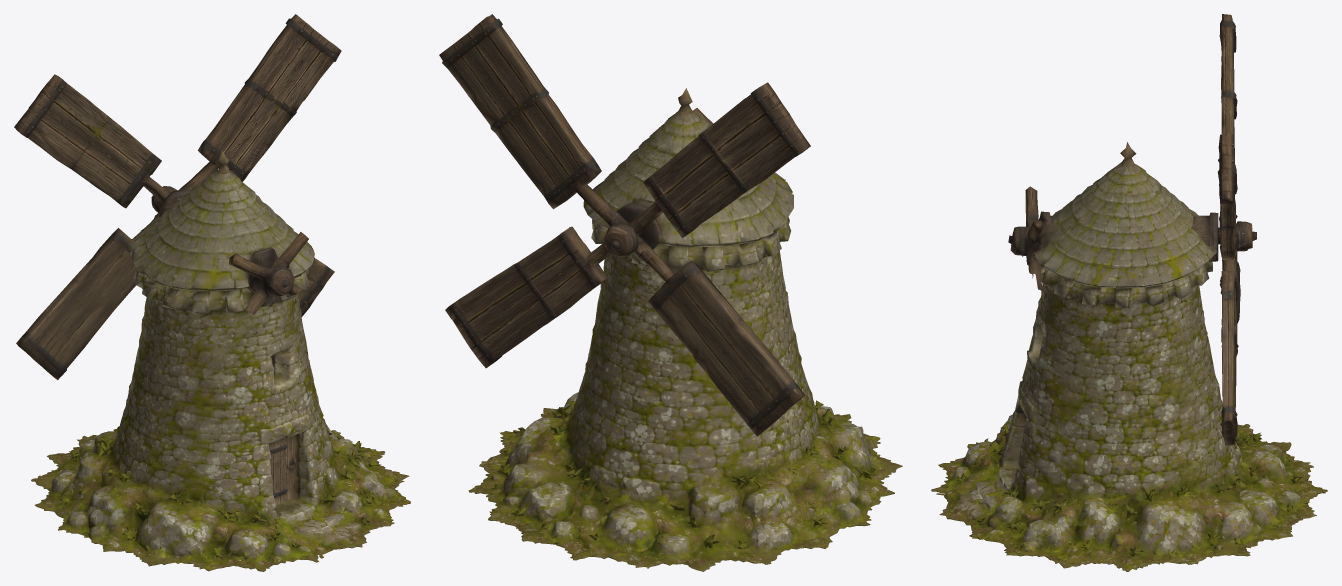
Rendered from windmill_tripo.glb.
3 views of the same model, side by side, from view 1: azimuth 30°, elevation 25°; view 2: azimuth 150°, elevation 25°; view 3: azimuth 270°, elevation 25° (orthographic). The views are drawn at different scales.
Parts seen in each view (by area): view 1: tripo_node_0aedaa00-464d-412e-b17b-01f9d8774274; view 2: tripo_node_0aedaa00-464d-412e-b17b-01f9d8774274; view 3: tripo_node_0aedaa00-464d-412e-b17b-01f9d8774274.
Boxes of the visible parts, left/top/right/bottom form: tripo_node_0aedaa00-464d-412e-b17b-01f9d8774274: left=14, top=14, right=410, bottom=571; tripo_node_0aedaa00-464d-412e-b17b-01f9d8774274: left=439, top=14, right=902, bottom=571; tripo_node_0aedaa00-464d-412e-b17b-01f9d8774274: left=931, top=14, right=1327, bottom=571.
Bounding box in the file's own units: 0.8369 × 1 × 0.8561.
Materials: 1 (1 with a texture image).
